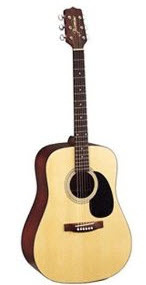guitar: (19, 5, 135, 285)
